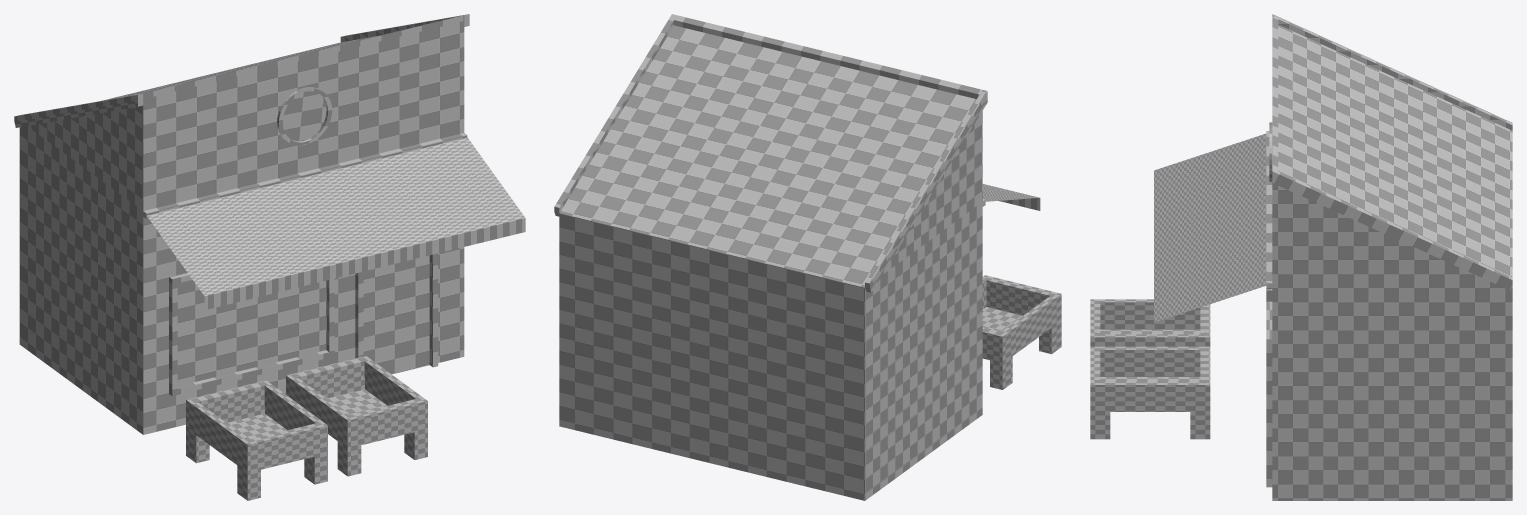
Rendered from Solbourg_Commerce.fbx.
The picture shows the model from 3 angles, left to right: view 1: azimuth 30°, elevation 25°; view 2: azimuth 150°, elevation 25°; view 3: azimuth 270°, elevation 25°; orthographic projection. The views are drawn at different scales.
Parts seen in each view (by area): view 1: Maison, Etals; view 2: Maison, Etals; view 3: Maison, Etals.
Part boxes in pixels (left/top/right/bottom): Maison: left=14, top=14, right=525, bottom=434; Etals: left=186, top=356, right=427, bottom=500; Maison: left=554, top=14, right=1040, bottom=500; Etals: left=982, top=275, right=1061, bottom=389; Maison: left=1154, top=14, right=1512, bottom=500; Etals: left=1090, top=299, right=1210, bottom=439.
Bounding box in the file's own units: 620 × 610 × 703.
2 materials, 2 textured.
